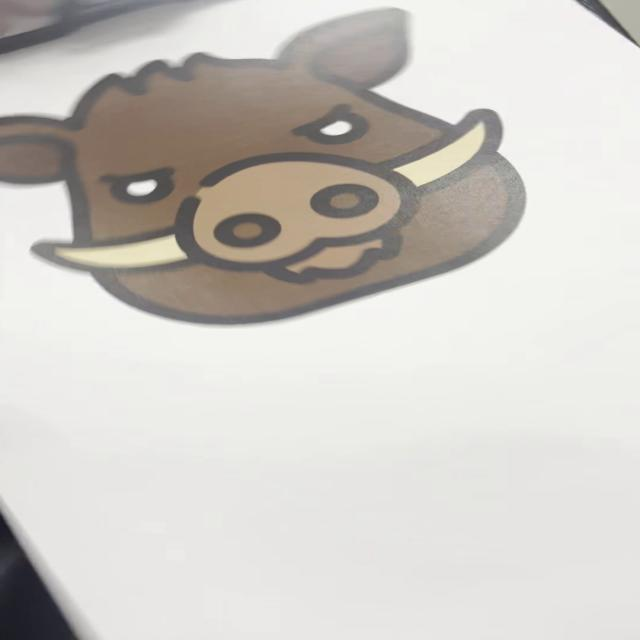animal: (2, 10, 533, 330)
